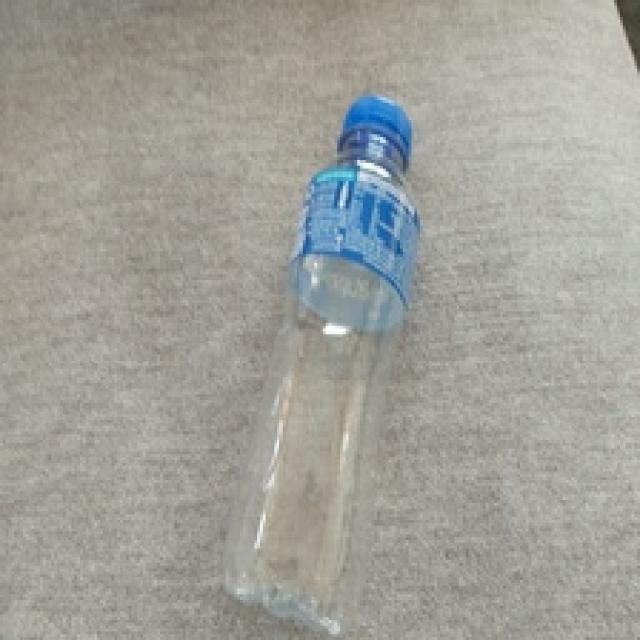plastic: (220, 90, 421, 640)
